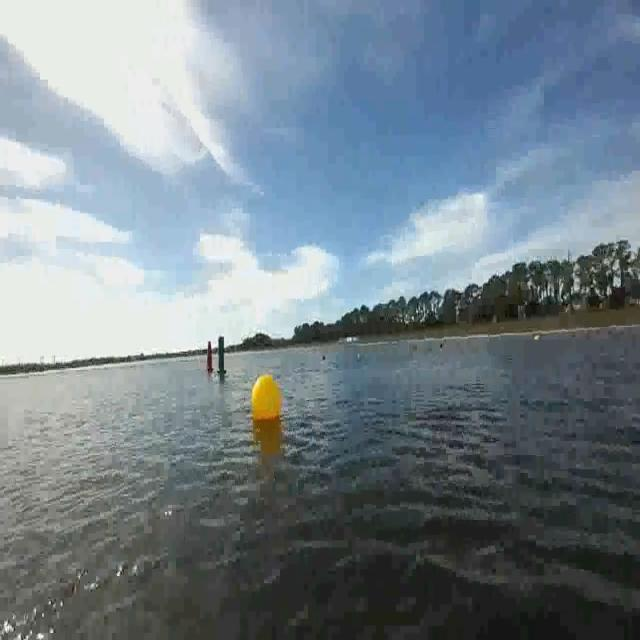green-column-buoy: (215, 336, 227, 375)
red-column-buoy: (205, 341, 215, 374)
yellow-buoy: (250, 374, 282, 426)
